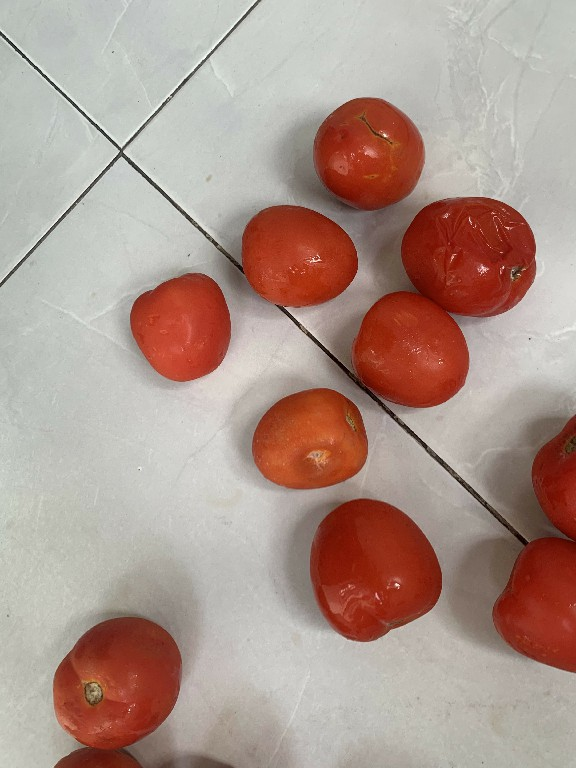NG: (397, 193, 540, 324), (307, 90, 428, 212), (245, 387, 369, 492)
OK: (38, 609, 197, 750), (306, 492, 448, 641), (347, 287, 472, 415), (471, 532, 576, 678), (230, 200, 361, 312), (122, 269, 236, 394)
